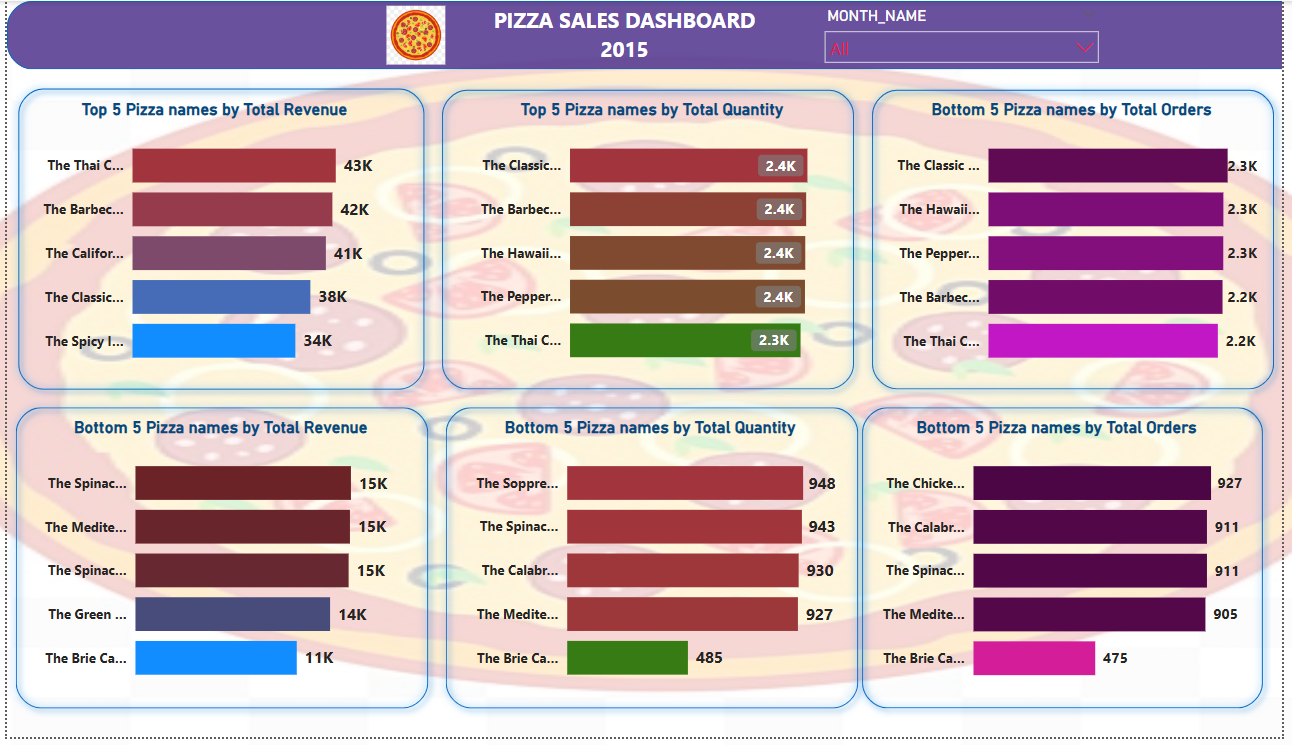

The page's visual inventory and layout, read from the dashboard file:
{"tool":"powerbi","page":{"name":"Page 3","canvas":[1300,750],"ordinal":2},"visuals":[{"type":"shape","box":[2.5,80.2,431.8,324.8],"z":0},{"type":"shape","box":[0,0,1479,69.6],"z":1000},{"type":"image","box":[370.7,0,91.7,70.1],"z":2000},{"type":"textbox","box":[480.2,0,298.1,70.1],"z":3000},{"type":"shape","box":[434.4,81.5,438.2,323.5],"z":4000},{"type":"shape","box":[872.5,81.5,428,323.5],"z":5000},{"type":"shape","box":[0,405.1,438.2,324.8],"z":6000},{"type":"shape","box":[438.2,405.1,438.2,324.8],"z":7000},{"type":"shape","box":[862.7,405.6,426.5,324.7],"z":8000},{"type":"barChart","title":"Top 5 Pizza names by Total Revenue ","fields":{"Category":["Data Model - Pizza Sales xlsx - pizza_sales.pizza_name"],"Y":["Data Model - Pizza Sales xlsx - pizza_sales.Total_Revenue"]},"box":[19.5,100.3,384.6,287.1],"z":9000},{"type":"barChart","title":"Bottom 5 Pizza names by Total Revenue ","fields":{"Category":["Data Model - Pizza Sales xlsx - pizza_sales.pizza_name"],"Y":["Data Model - Pizza Sales xlsx - pizza_sales.Total_Revenue"]},"box":[19.1,424.2,397.4,286.6],"z":10000},{"type":"barChart","title":"Top 5 Pizza names by Total Quantity","fields":{"Category":["Data Model - Pizza Sales xlsx - pizza_sales.pizza_name"],"Y":["Data Model - Pizza Sales xlsx - pizza_sales.Total_Quantity"]},"box":[464.9,100.6,384.7,286.6],"z":11000},{"type":"barChart","title":"Bottom 5 Pizza names by Total Quantity","fields":{"Category":["Data Model - Pizza Sales xlsx - pizza_sales.pizza_name"],"Y":["Data Model - Pizza Sales xlsx - pizza_sales.Total_Quantity"]},"box":[461.1,424.2,388.5,286.6],"z":12000},{"type":"barChart","title":"Bottom 5 Pizza names by Total Orders","fields":{"Category":["Data Model - Pizza Sales xlsx - pizza_sales.pizza_name"],"Y":["Data Model - Pizza Sales xlsx - pizza_sales.Total_Orders"]},"box":[890.5,100.3,388.8,287.1],"z":13000},{"type":"barChart","title":"Bottom 5 Pizza names by Total Orders","fields":{"Category":["Data Model - Pizza Sales xlsx - pizza_sales.pizza_name"],"Y":["Data Model - Pizza Sales xlsx - pizza_sales.Total_Orders"]},"box":[875.2,423.7,388.8,287.1],"z":14000},{"type":"slicer","fields":{"Values":["Data Model - Pizza Sales xlsx - pizza_sales.MONTH_NAME"]},"box":[822.3,1.4,299.6,68.3],"z":15000}]}

Visuals, with their boxes in screenshot pixels (x1, y1, x2, y2), scaled from the page's 1300x750 canvas onto the 1292x745 screenshot:
shape: <bbox>2, 80, 432, 402</bbox>
shape: <bbox>0, 0, 1291, 69</bbox>
image: <bbox>368, 0, 460, 70</bbox>
textbox: <bbox>477, 0, 774, 70</bbox>
shape: <bbox>432, 81, 867, 402</bbox>
shape: <bbox>867, 81, 1291, 402</bbox>
shape: <bbox>0, 402, 436, 725</bbox>
shape: <bbox>436, 402, 871, 725</bbox>
shape: <bbox>857, 403, 1281, 725</bbox>
"Top 5 Pizza names by Total Revenue " barChart: <bbox>19, 100, 402, 385</bbox>
"Bottom 5 Pizza names by Total Revenue " barChart: <bbox>19, 421, 414, 706</bbox>
"Top 5 Pizza names by Total Quantity" barChart: <bbox>462, 100, 844, 385</bbox>
"Bottom 5 Pizza names by Total Quantity" barChart: <bbox>458, 421, 844, 706</bbox>
"Bottom 5 Pizza names by Total Orders" barChart: <bbox>885, 100, 1271, 385</bbox>
"Bottom 5 Pizza names by Total Orders" barChart: <bbox>870, 421, 1256, 706</bbox>
slicer - Data Model - Pizza Sales xlsx - pizza_sales.MONTH_NAME: <bbox>817, 1, 1115, 69</bbox>
